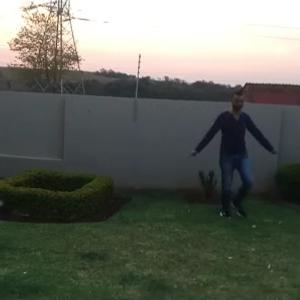land: (192, 102, 278, 222)
